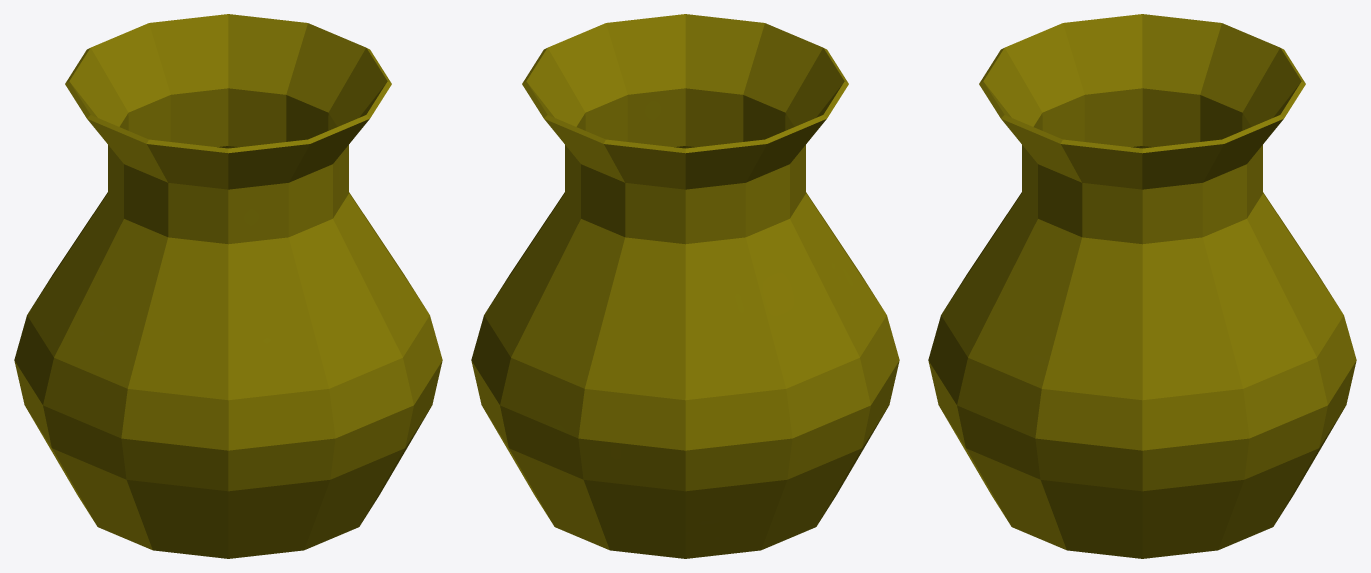
File: Jug.fbx
3 renders of one model, left to right at view 1: azimuth 30°, elevation 25°; view 2: azimuth 150°, elevation 25°; view 3: azimuth 270°, elevation 25°, orthographic.
Visible parts, largest first — view 1: Jug; view 2: Jug; view 3: Jug.
Boxes of the visible parts, bbox=[...] form: Jug: bbox=[14, 14, 442, 558]; Jug: bbox=[471, 14, 899, 558]; Jug: bbox=[928, 14, 1356, 558].
Size of the model in its own units: 23.79 by 25.36 by 23.79.
